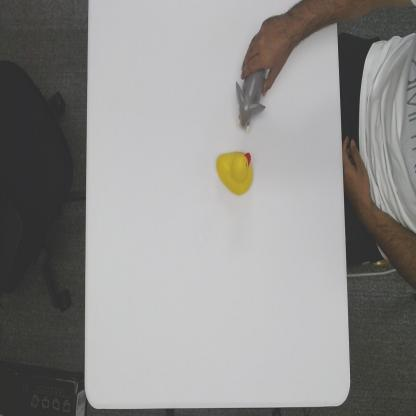Arm: (288, 0, 340, 41)
Duck: (216, 149, 254, 196)
Elephant: (235, 66, 267, 131)
Hand: (242, 14, 292, 93)
